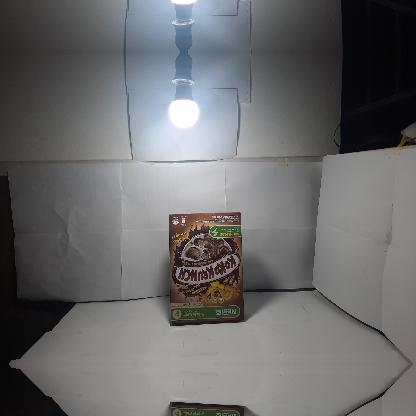Koko-Krunch: (168, 212, 244, 324)
